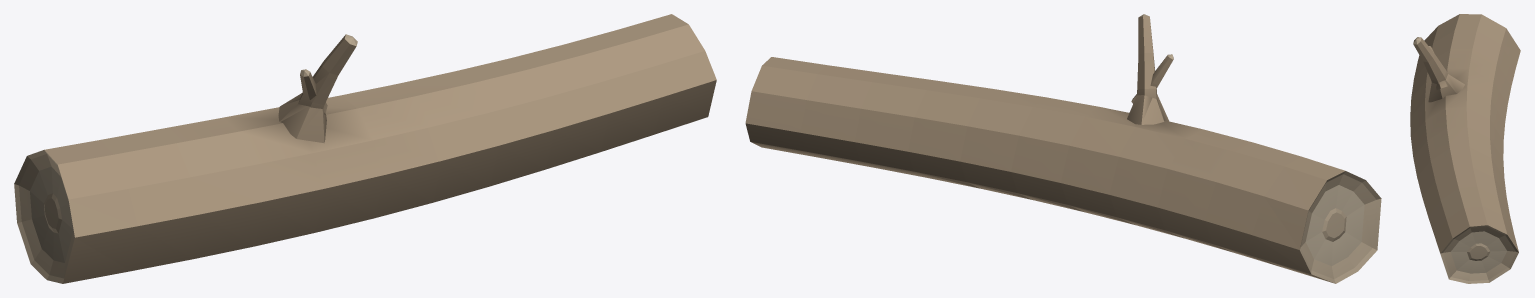
The model's file is fallen.glb.
The picture shows the model from 3 angles, left to right: view 1: azimuth 30°, elevation 25°; view 2: azimuth 150°, elevation 25°; view 3: azimuth 270°, elevation 25°; orthographic projection. The views are drawn at different scales.
Parts seen in each view (by area): view 1: fallen; view 2: fallen; view 3: fallen.
Part boxes in pixels (x1=…): fallen: x1=14, y1=14, x2=716, y2=283; fallen: x1=745, y1=14, x2=1381, y2=283; fallen: x1=1410, y1=14, x2=1520, y2=283.
Bounding box in the file's own units: 4.94 × 1.44 × 1.12.
